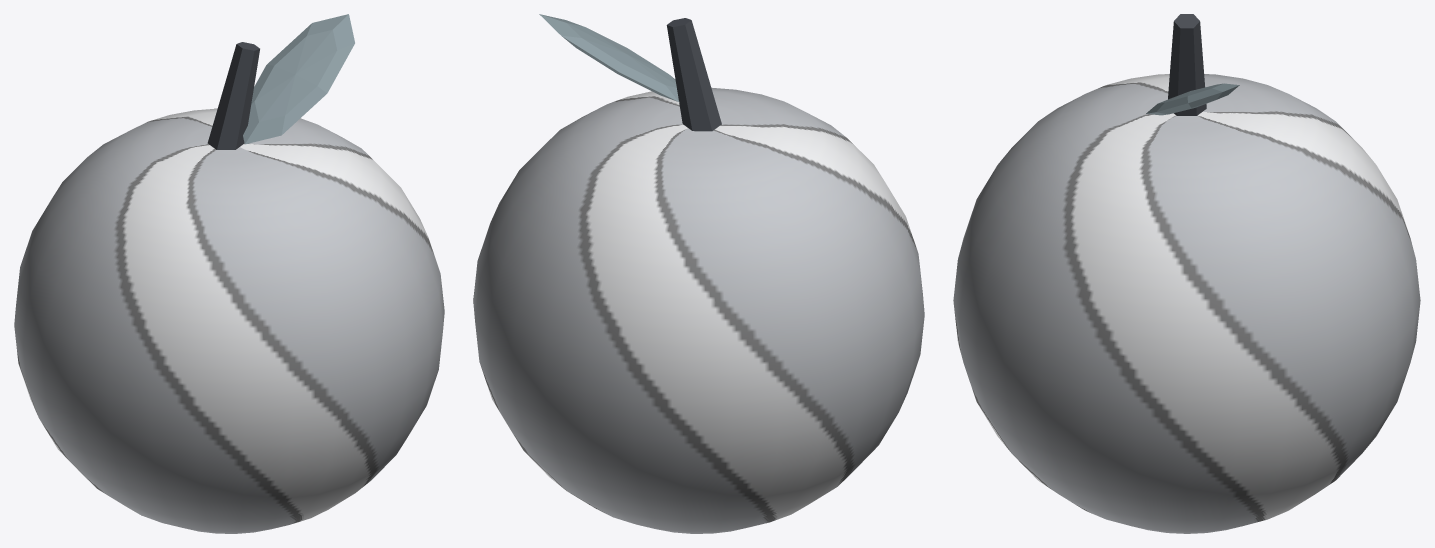
The model's file is Fruit_MokuMoku.fbx.
3 renders of one model, left to right at view 1: azimuth 30°, elevation 25°; view 2: azimuth 150°, elevation 25°; view 3: azimuth 270°, elevation 25°, orthographic. The views are drawn at different scales.
Parts seen in each view (by area): view 1: Fruit_MokuMoku; view 2: Fruit_MokuMoku; view 3: Fruit_MokuMoku.
Boxes of the visible parts, x1=… form: Fruit_MokuMoku: x1=14, y1=14, x2=444, y2=533; Fruit_MokuMoku: x1=473, y1=14, x2=924, y2=533; Fruit_MokuMoku: x1=953, y1=14, x2=1420, y2=533.
Bounding box in the file's own units: 1.6 × 1.9 × 1.6.
Materials: 1 (1 with a texture image).
